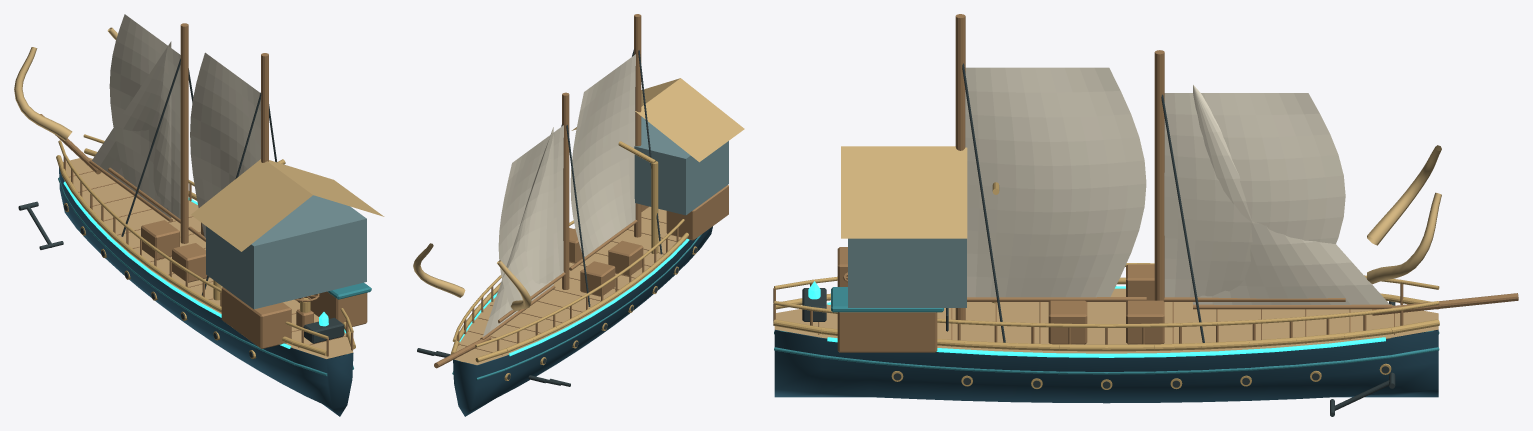
The model's file is premium_salvage_schooner.glb.
3 renders of one model, left to right at view 1: azimuth 30°, elevation 25°; view 2: azimuth 150°, elevation 25°; view 3: azimuth 270°, elevation 25°, orthographic. The views are drawn at different scales.
Parts seen in each view (by area): view 1: premium_salvage_schooner; view 2: premium_salvage_schooner; view 3: premium_salvage_schooner.
Boxes of the visible parts, x1,y1,x2,y2 form: premium_salvage_schooner: (14, 14, 384, 416); premium_salvage_schooner: (413, 14, 744, 416); premium_salvage_schooner: (773, 14, 1518, 416).
Size of the model in its own units: 3.86 by 7.6 by 13.47.
